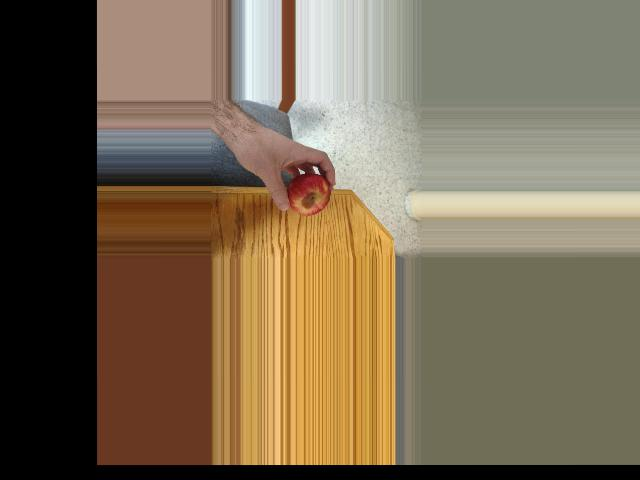apple: (281, 172, 332, 215)
